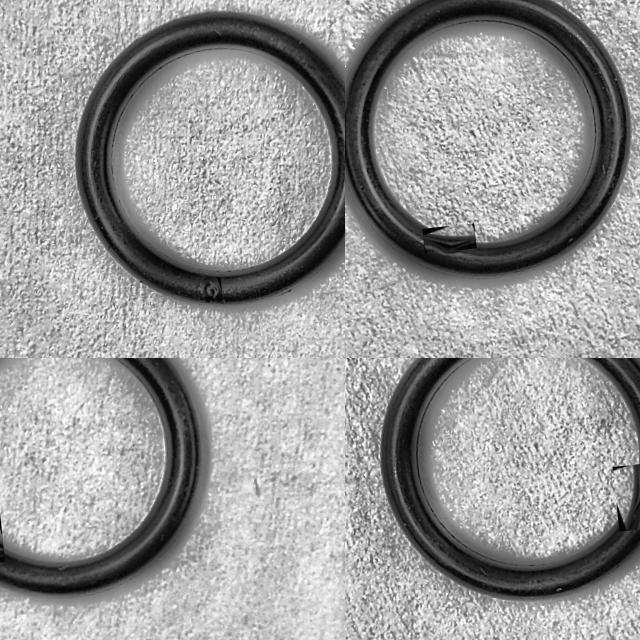切割缺陷: (627, 464, 640, 530), (423, 235, 475, 250), (203, 279, 221, 300)
